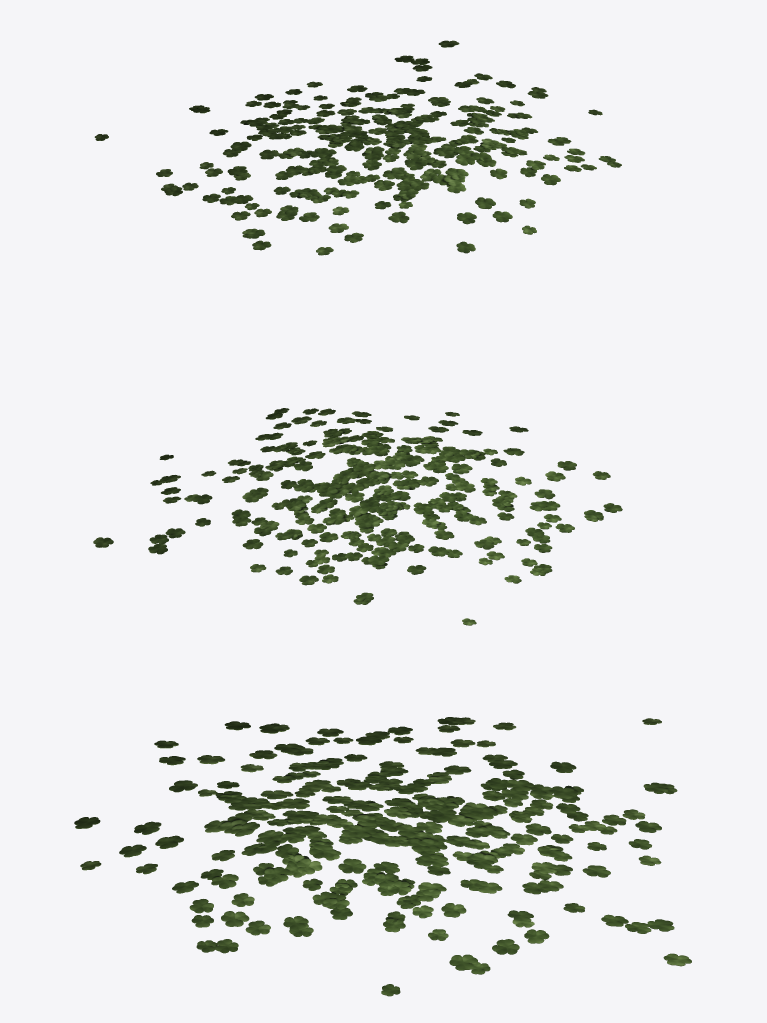
File: lake3.fbx
The picture shows the model from 3 angles, top to bottom: view 1: azimuth 30°, elevation 25°; view 2: azimuth 150°, elevation 25°; view 3: azimuth 270°, elevation 25°; orthographic projection. The views are drawn at different scales.
Parts seen in each view (by area): view 1: Clover-04; view 2: Clover-04; view 3: Clover-04.
Boxes of the visible parts, x1=… form: Clover-04: x1=94, y1=40, x2=621, y2=255; Clover-04: x1=93, y1=408, x2=622, y2=625; Clover-04: x1=74, y1=717, x2=691, y2=996.
Size of the model in its own units: 161 by 11.29 by 161.
